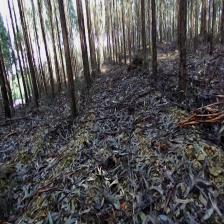trunk: (21, 22, 38, 106), (61, 25, 76, 118), (41, 26, 54, 98), (179, 5, 187, 92), (79, 27, 89, 86), (151, 7, 157, 75), (140, 1, 146, 66)
